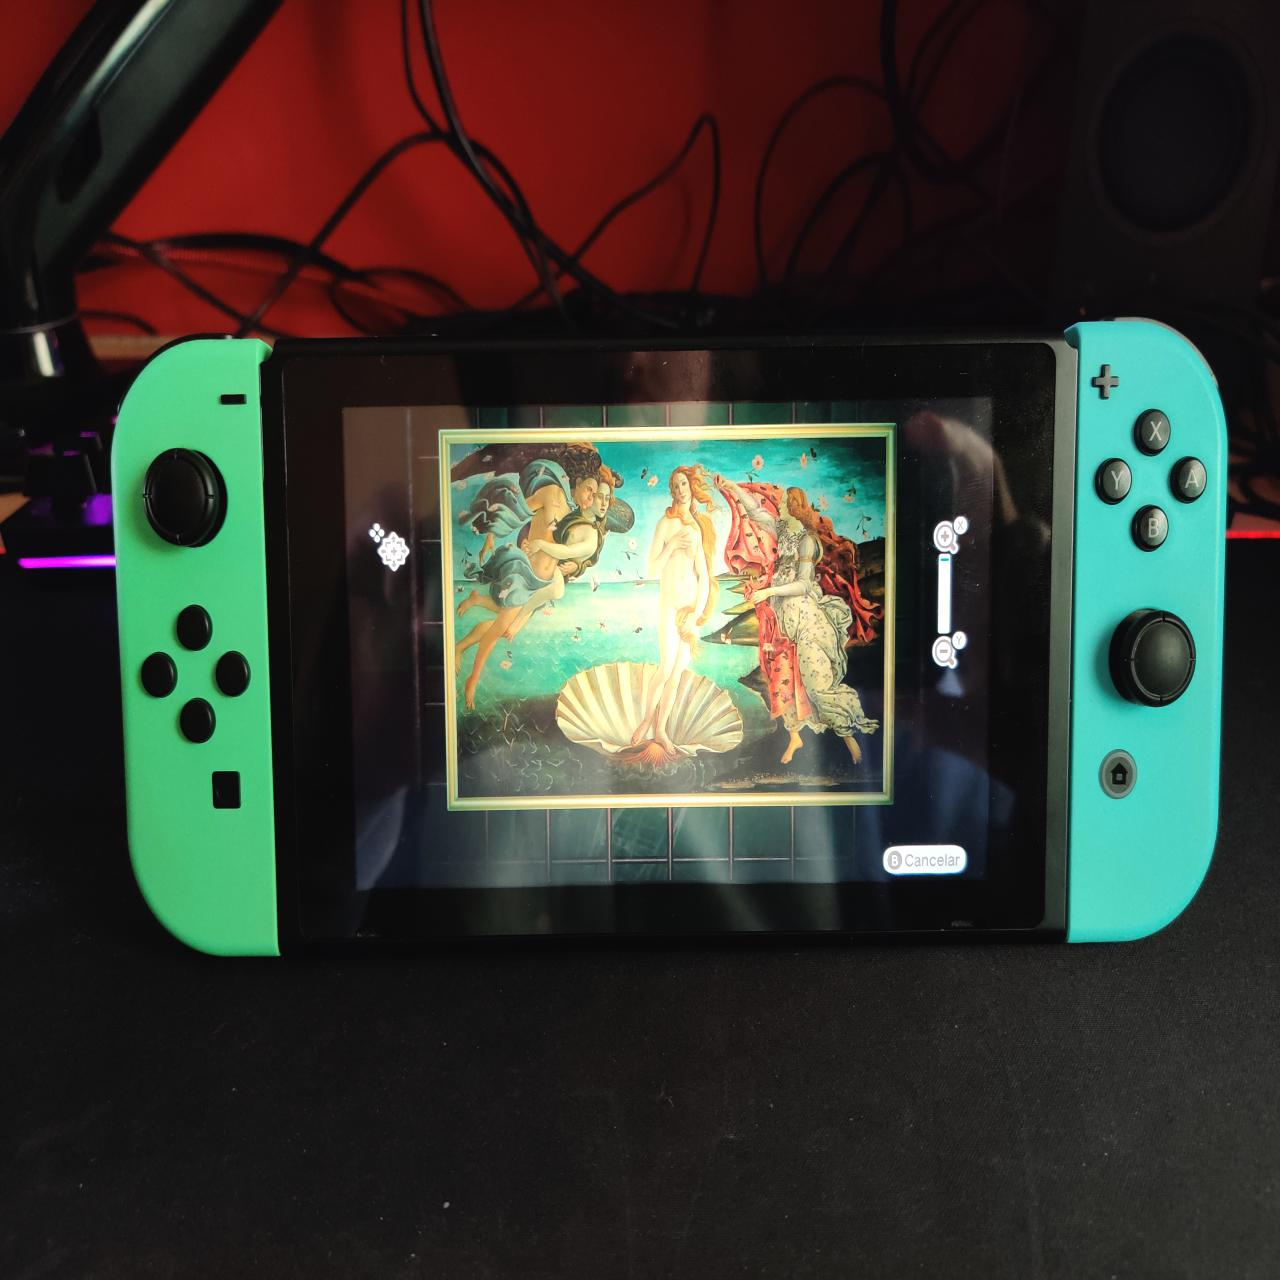BirthVenusFake: (452, 443, 890, 796)
